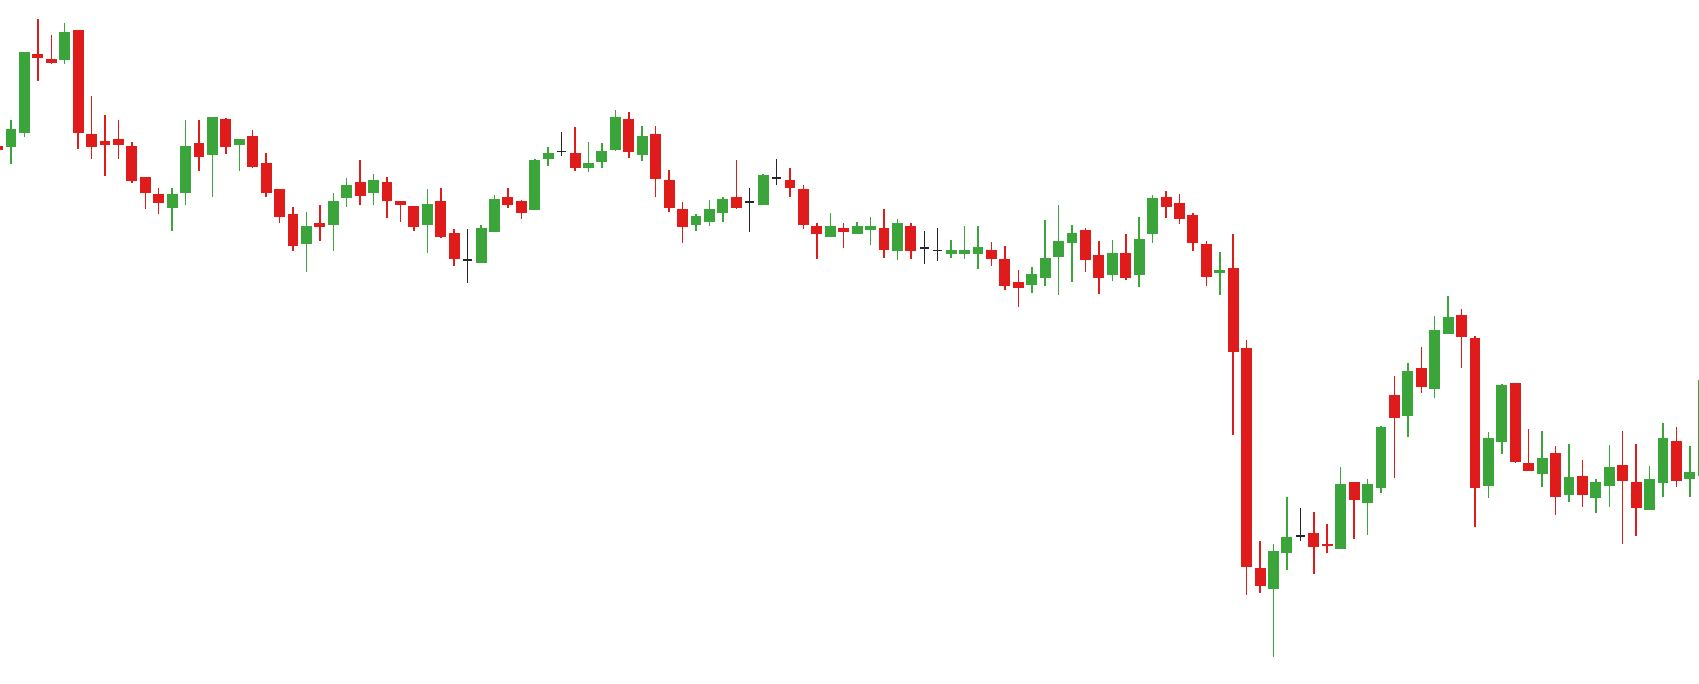sell: (1051, 189, 1186, 269)
